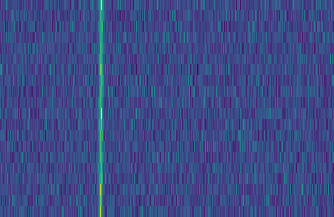signal: (94, 0, 104, 217)
